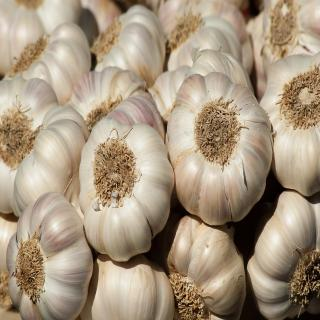Bawang Putih: (76, 116, 178, 265)
